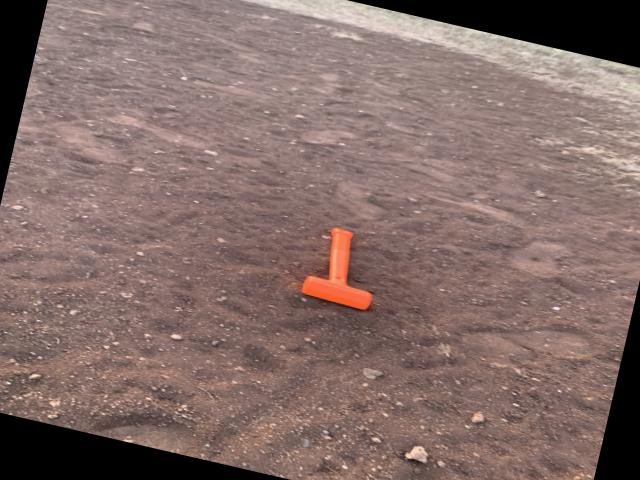hammer: (300, 223, 386, 312)
